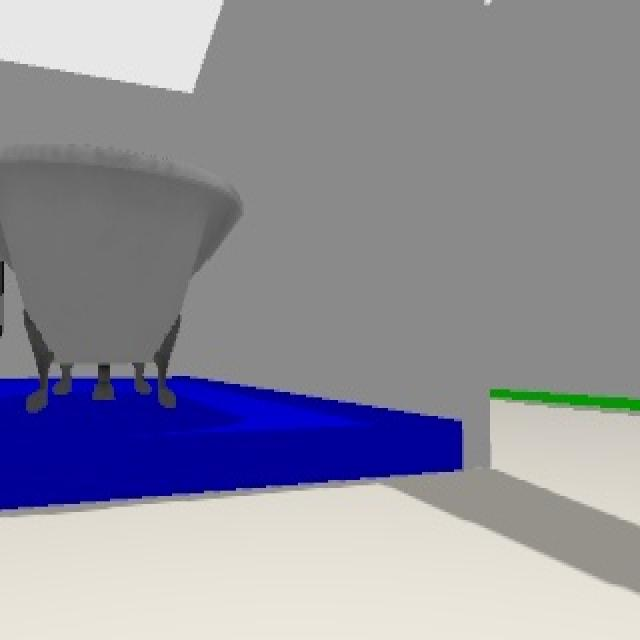bathtub: (0, 144, 244, 413)
